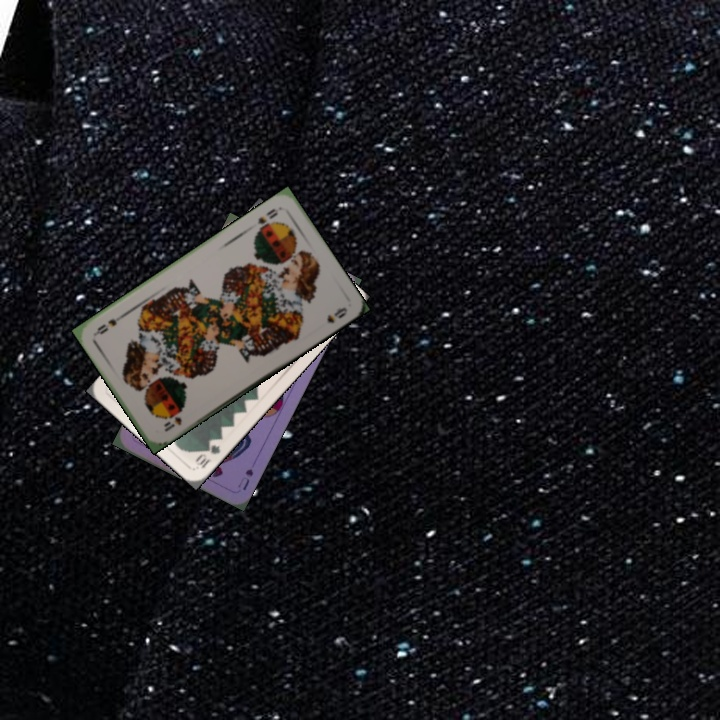G10: (191, 439, 223, 471)
SO: (160, 406, 185, 434), (253, 204, 280, 227)
SU: (234, 464, 256, 493)
